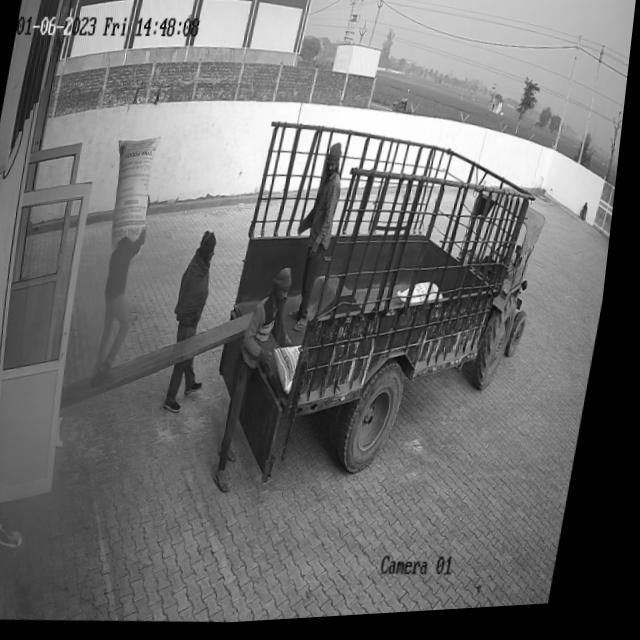sack: (103, 136, 163, 257)
